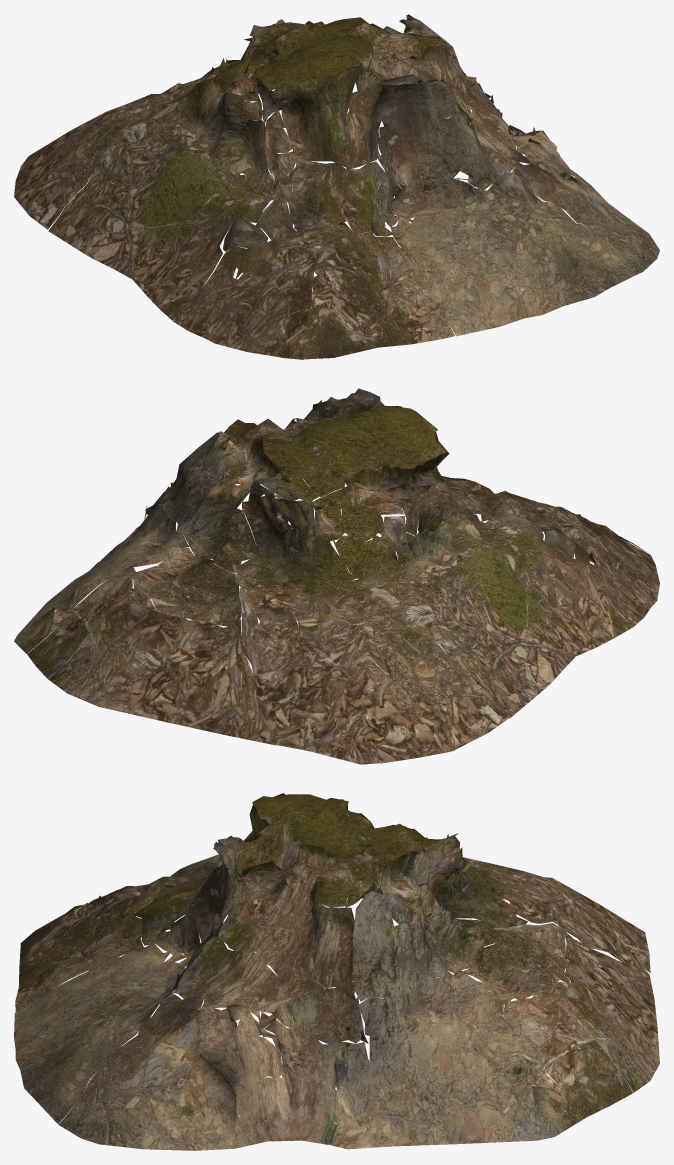
File: stump_a.glb
3 views of the same model, one above another, from view 1: azimuth 30°, elevation 25°; view 2: azimuth 150°, elevation 25°; view 3: azimuth 270°, elevation 25° (orthographic). The views are drawn at different scales.
Parts seen in each view (by area): view 1: stump_a; view 2: stump_a; view 3: stump_a.
Part boxes in pixels (<box>): stump_a: <box>14,14,659,359</box>; stump_a: <box>14,388,659,764</box>; stump_a: <box>14,793,659,1150</box>.
Size of the model in its own units: 1.42 by 0.5711 by 1.59.
Materials: 1 (1 with a texture image).
